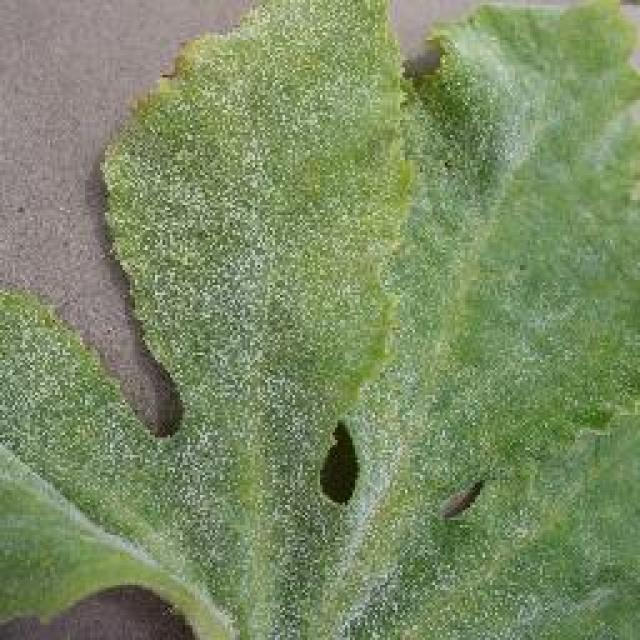Squ_Powdery_mildew: (105, 50, 492, 606)
